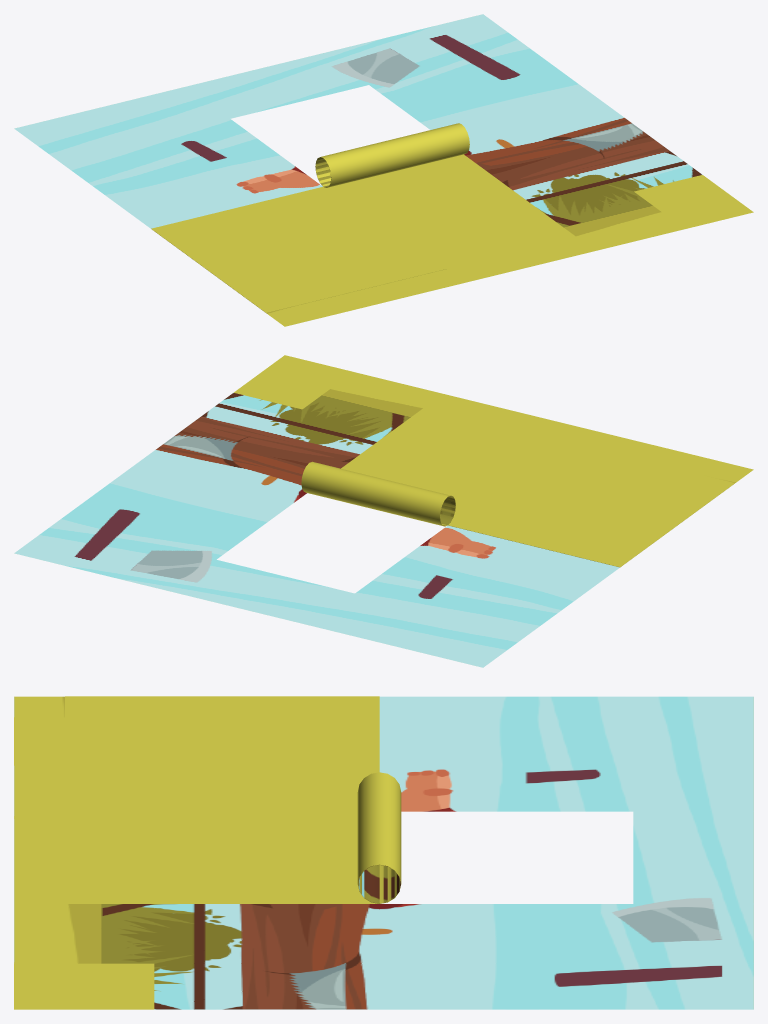
The picture shows the model from 3 angles, top to bottom: view 1: azimuth 30°, elevation 25°; view 2: azimuth 150°, elevation 25°; view 3: azimuth 270°, elevation 25°; orthographic projection. The views are drawn at different scales.
Parts seen in each view (by area): view 1: Mesh, Blend, Blend1; view 2: Mesh, Blend, Blend1; view 3: Mesh, Blend, Blend1.
Part boxes in pixels (<box>): Mesh: <box>14,14,753,326</box>; Blend: <box>151,186,446,312</box>; Blend1: <box>315,123,469,187</box>; Mesh: <box>14,355,753,667</box>; Blend: <box>448,439,734,567</box>; Blend1: <box>301,461,455,526</box>; Mesh: <box>14,696,753,1009</box>; Blend: <box>65,696,379,816</box>; Blend1: <box>357,772,401,903</box>.
Size of the model in its own units: 2400 by 141 by 2400.
